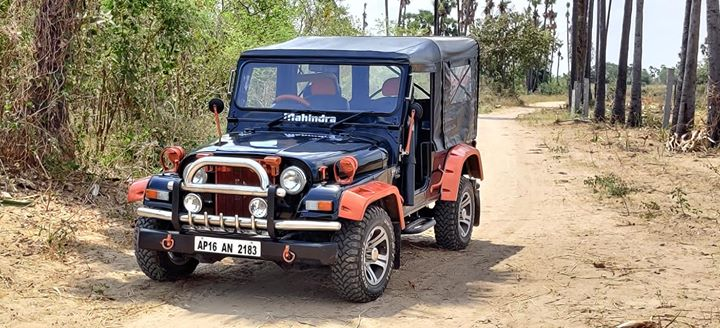Vehicle: (120, 34, 488, 299)
